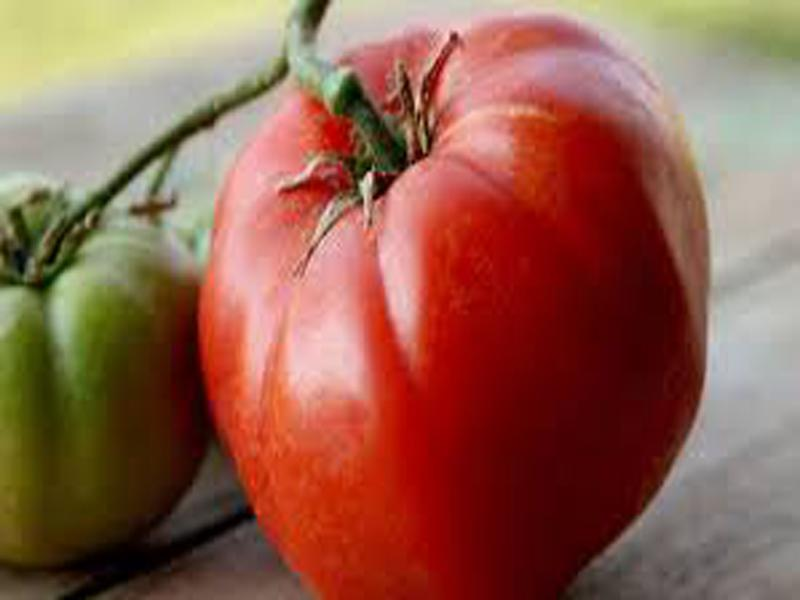Tomato: (201, 11, 712, 600)
